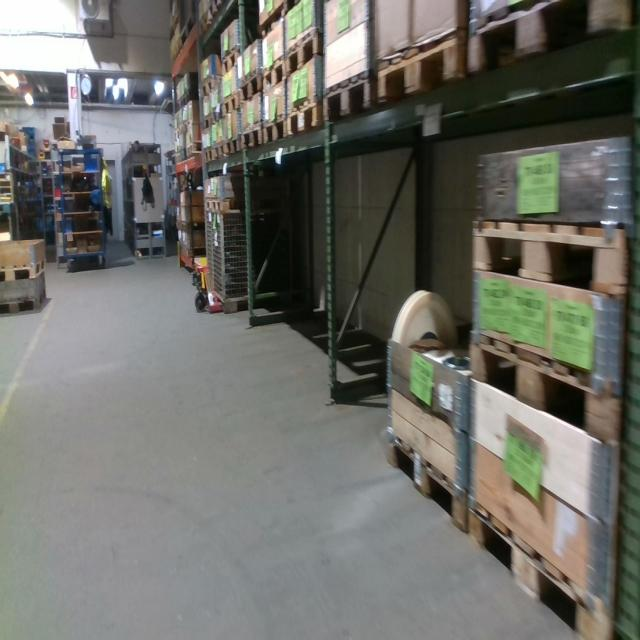pallet: (467, 498, 619, 636), (473, 328, 622, 445), (466, 212, 636, 300), (472, 2, 637, 78), (373, 19, 470, 115), (382, 433, 472, 532), (324, 72, 380, 136), (285, 31, 326, 82), (0, 285, 51, 318), (288, 101, 324, 147), (264, 52, 287, 103), (0, 258, 45, 283), (262, 112, 290, 152), (238, 68, 262, 104), (203, 200, 256, 215), (222, 45, 244, 76), (182, 15, 199, 54), (243, 121, 264, 150), (224, 130, 242, 161), (199, 75, 224, 97), (196, 7, 212, 36), (223, 88, 239, 115), (211, 1, 232, 17), (185, 142, 201, 162), (214, 139, 226, 162), (202, 114, 214, 130), (205, 147, 211, 165)
pallet_truck: (181, 161, 225, 316)
stillage: (212, 206, 305, 314), (203, 206, 214, 300)
